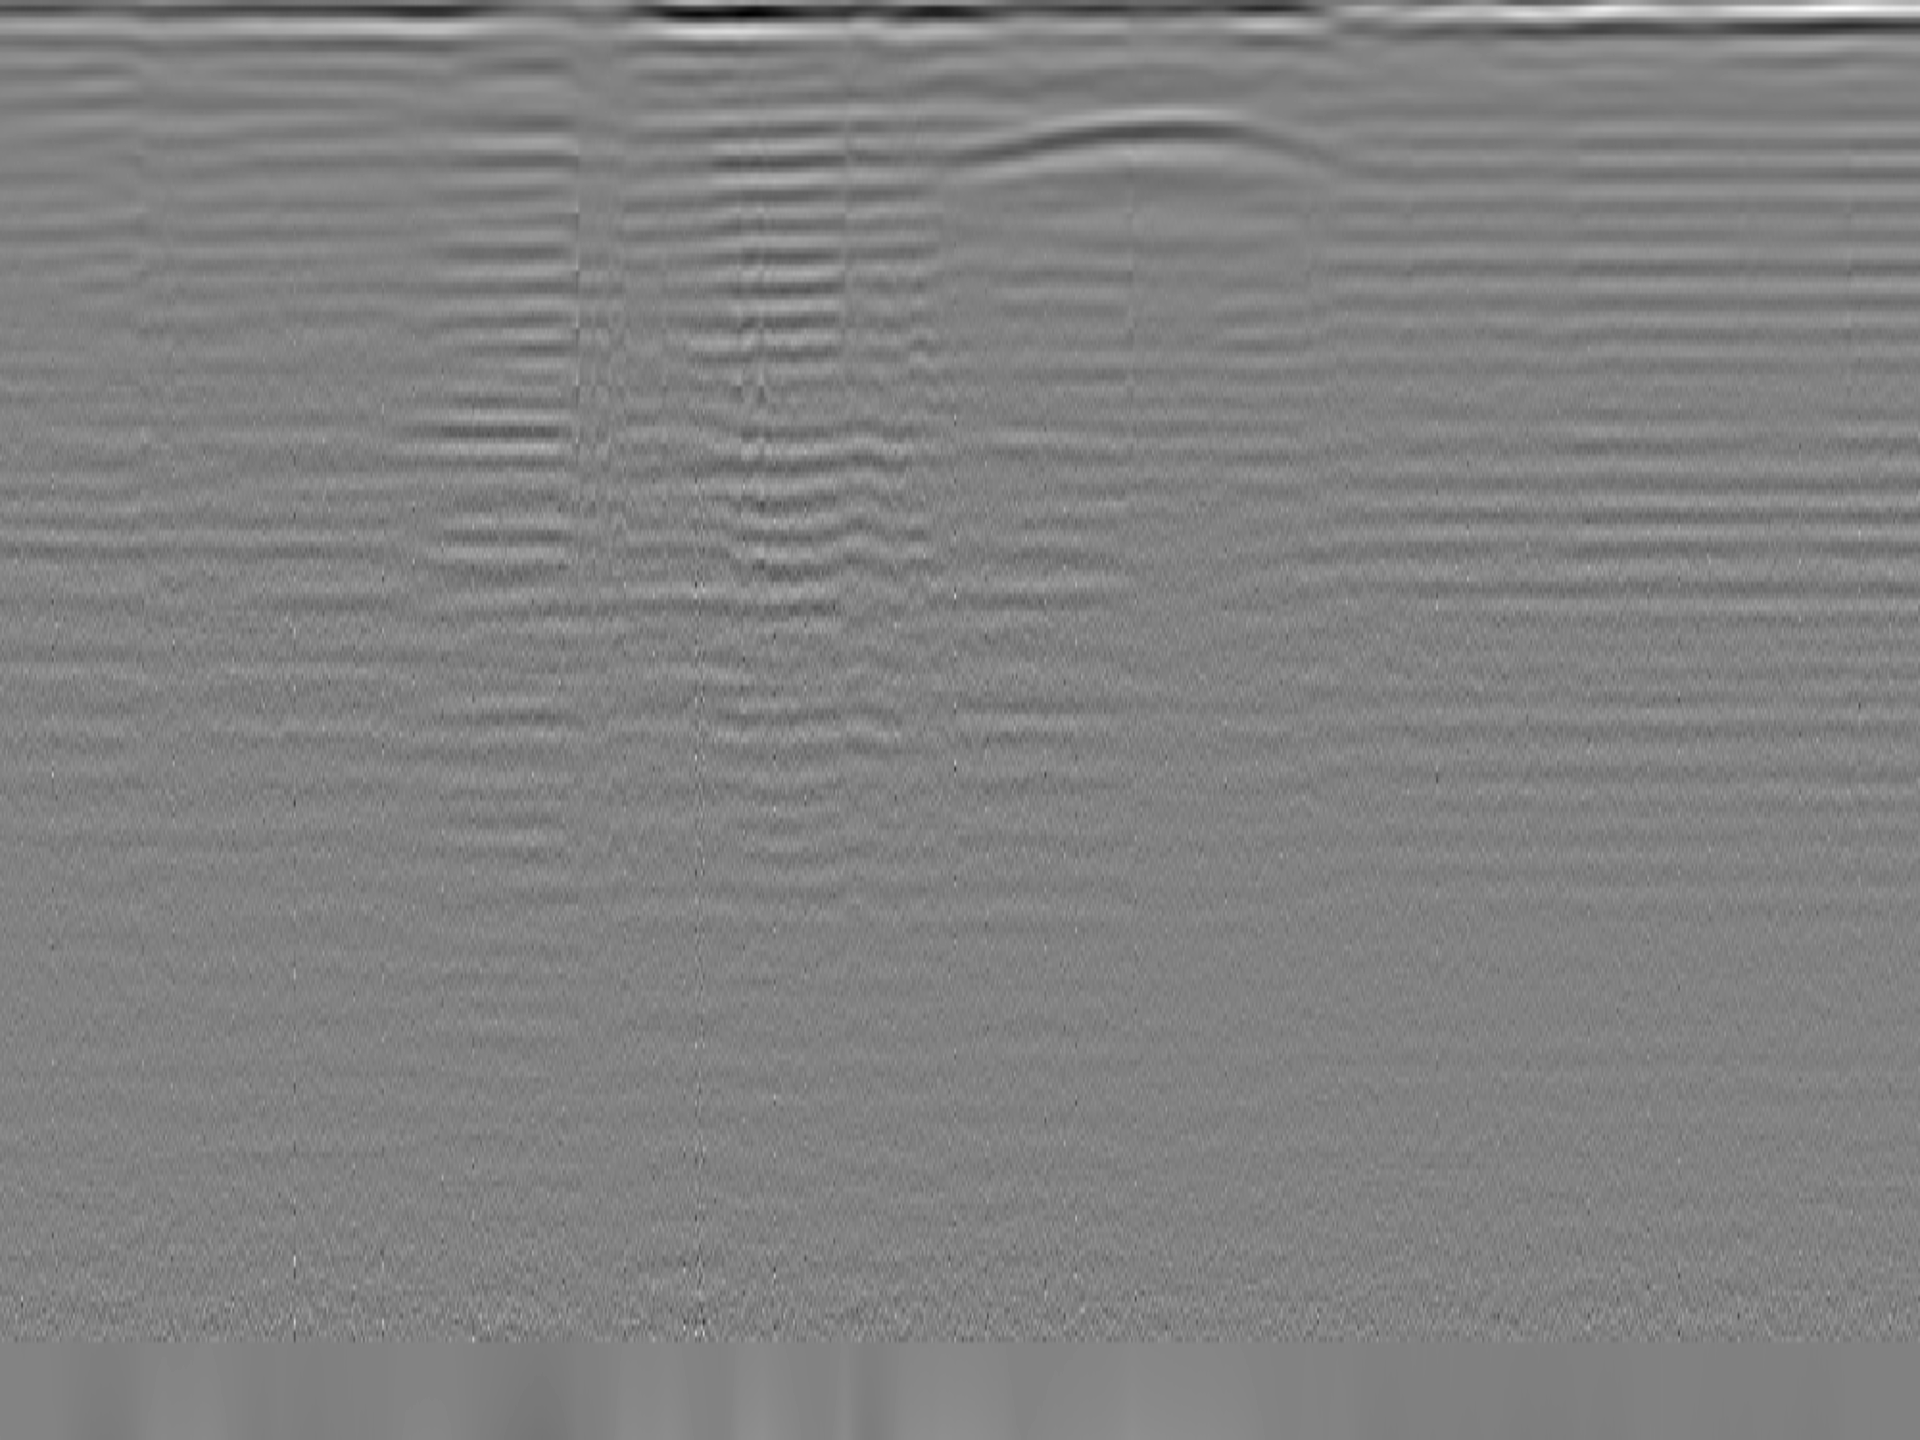Tunnel: (946, 106, 1281, 169)
